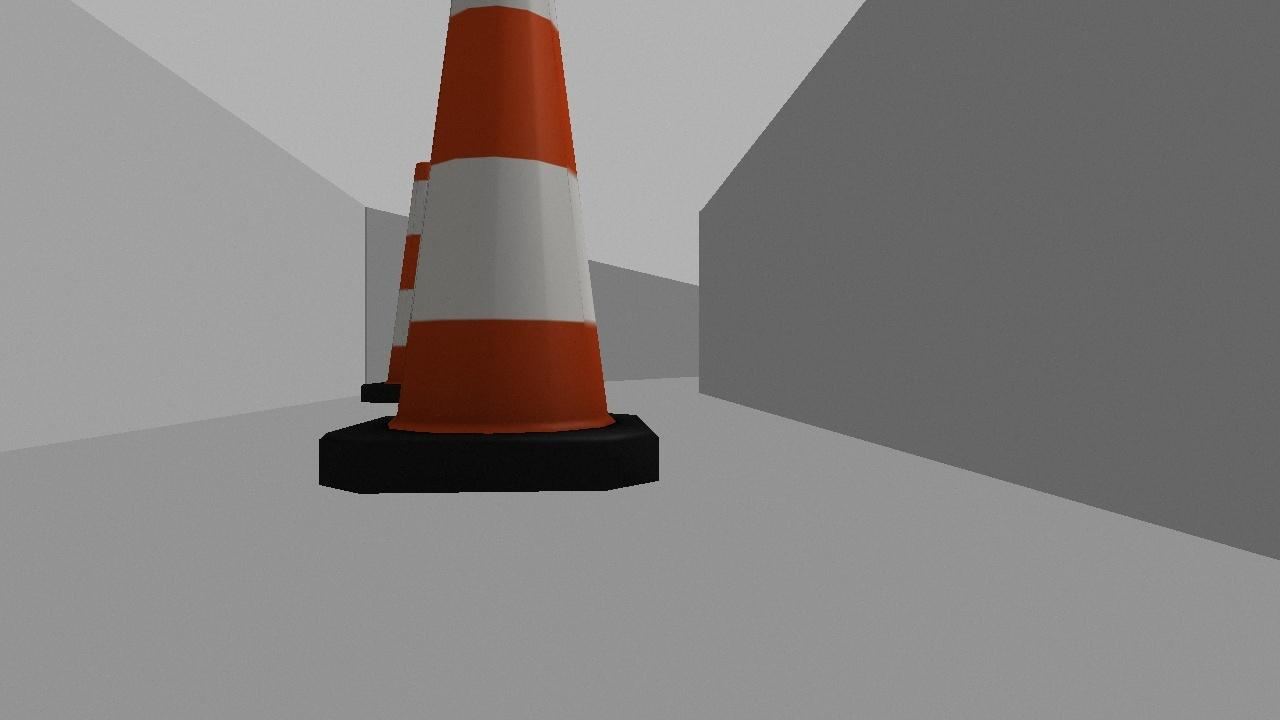cone_barrel: (316, 0, 659, 493), (358, 162, 466, 403)
